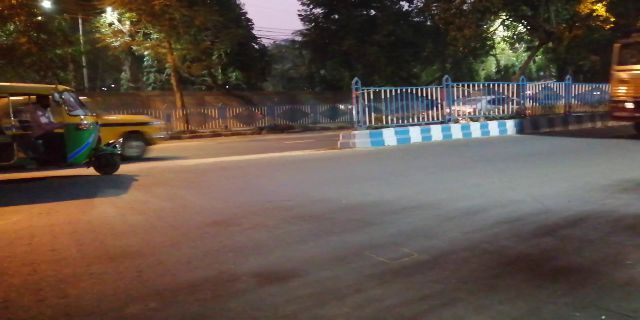Car: (6, 79, 123, 176)
